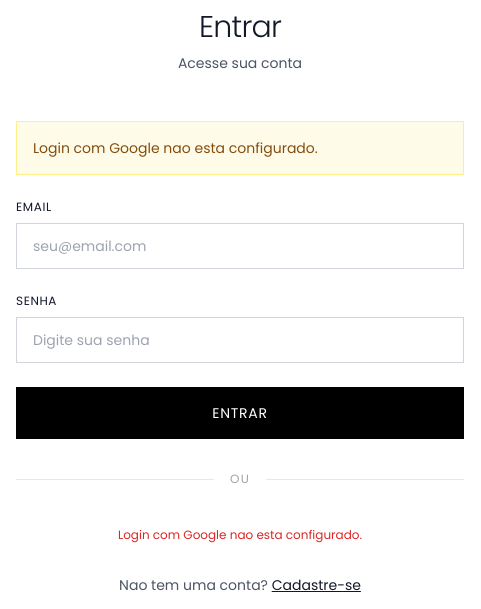
Login Component › Estados › deve exibir loading state durante autenticação
Step 1. Type "teste@email.com" into the field labelled "Email" → (240, 246), box [16, 223, 464, 269]
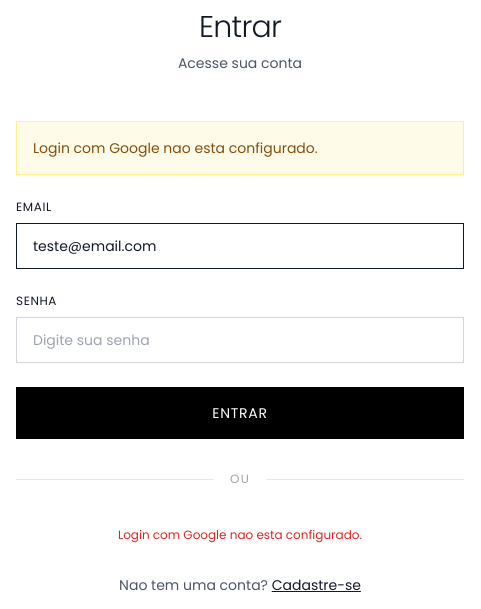
Step 2. Type "senha123" into the password field labelled "Senha" → (240, 340), box [16, 317, 464, 363]
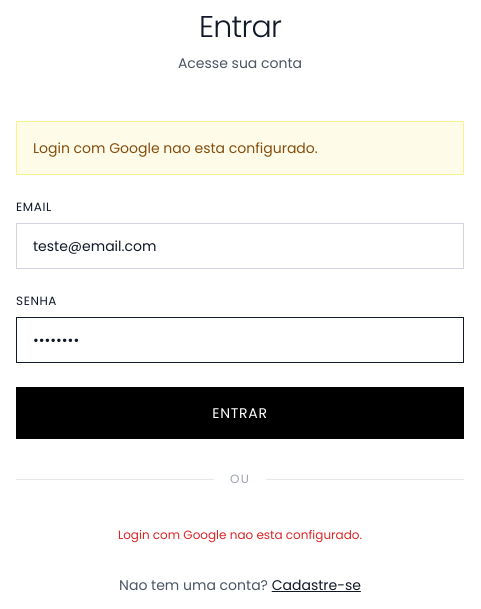
Step 3. Click the button "Entrar" → click(240, 413), box [16, 387, 464, 439]
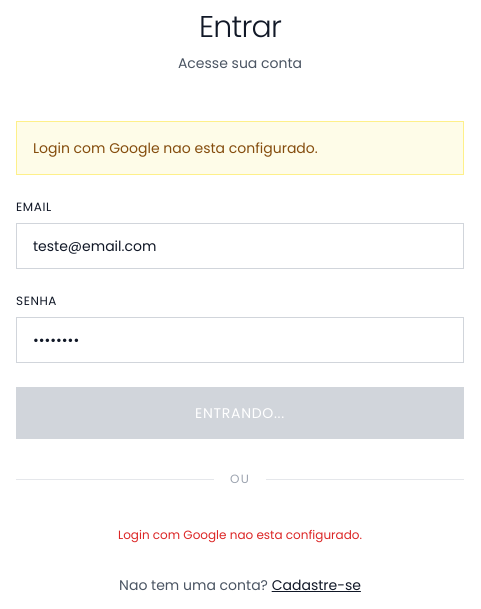
Result: the button "Entrando..." is disabled at [16, 387, 464, 439]
